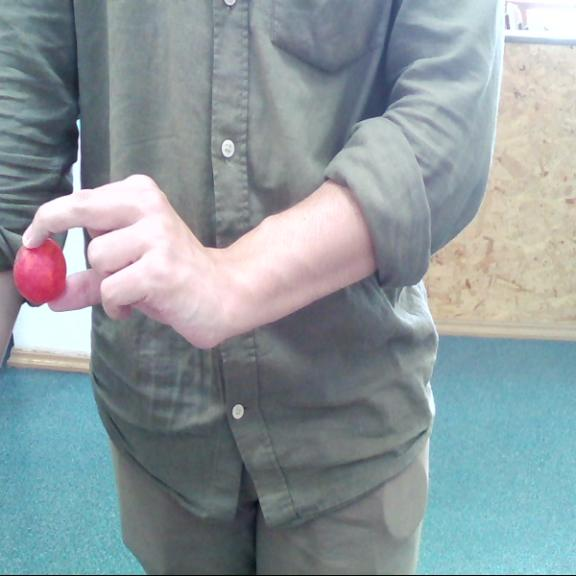ball: (13, 240, 67, 301)
